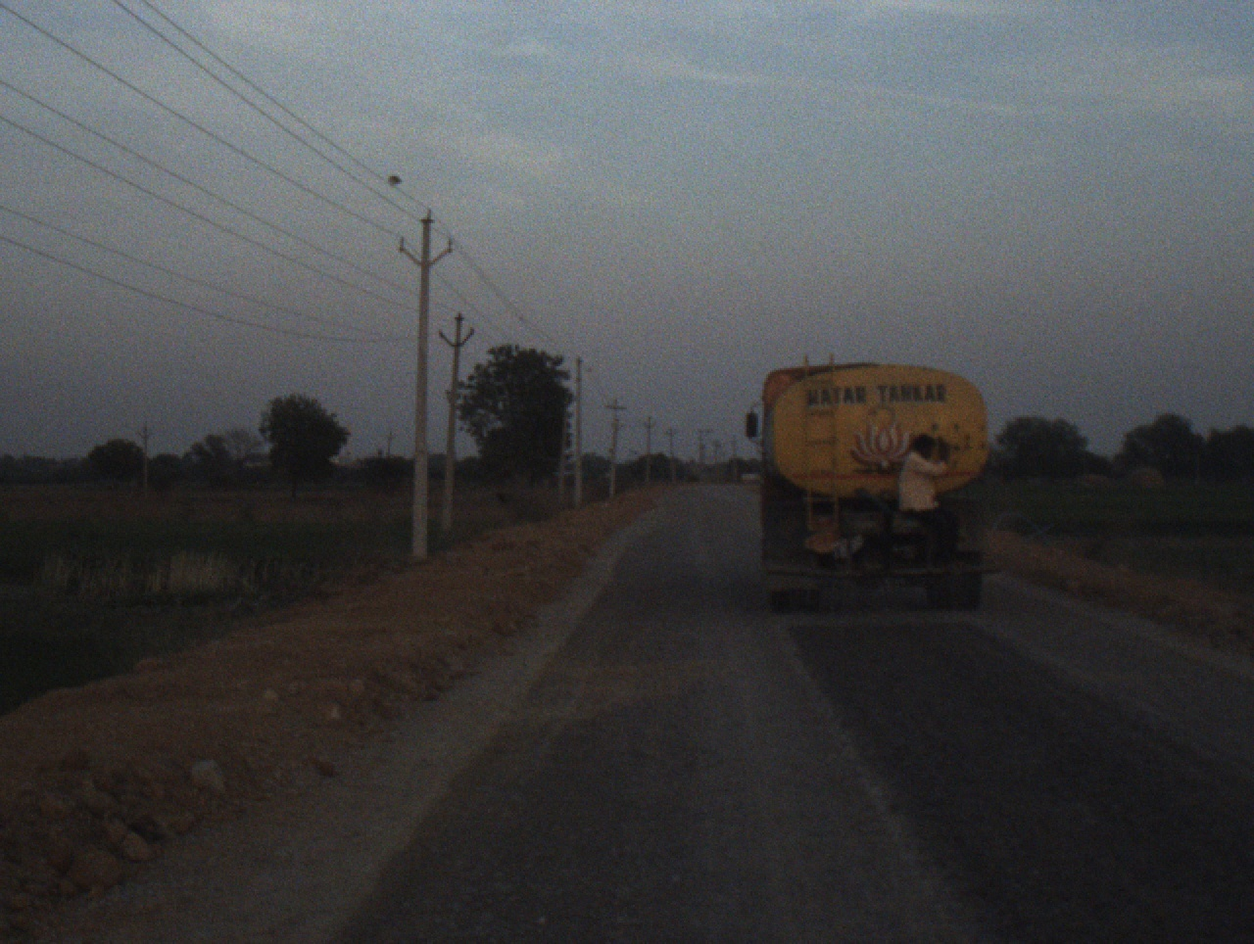person: (898, 434, 973, 569)
truck: (746, 349, 1008, 620)
